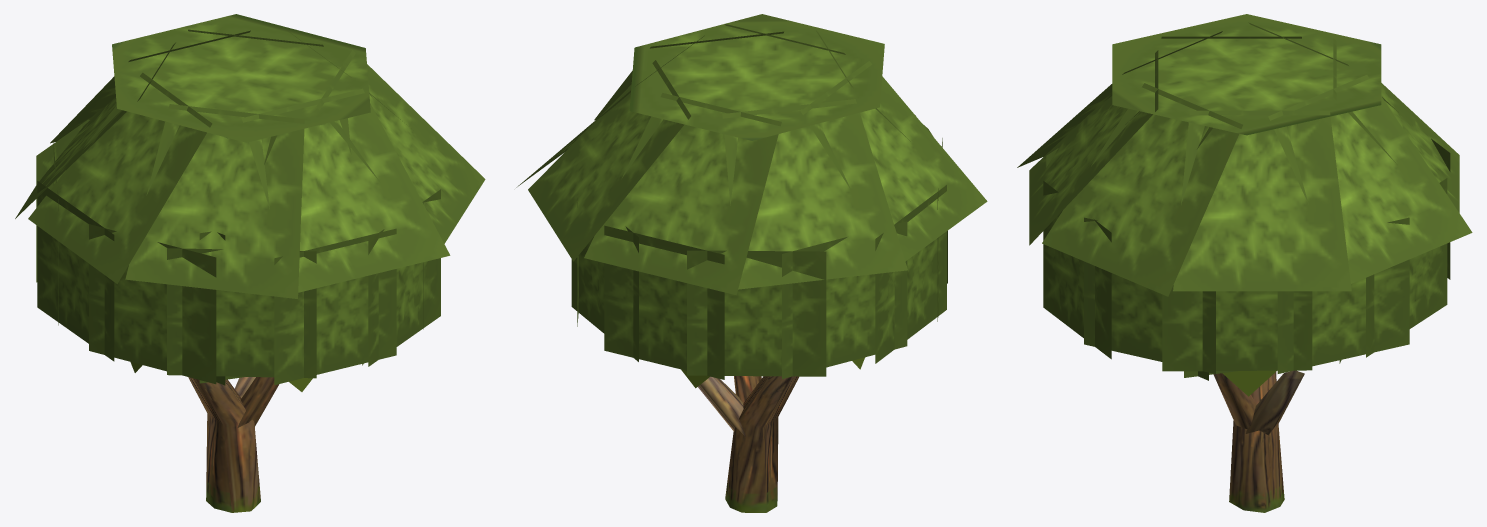
The model's file is City_tree_10.FBX.
3 renders of one model, left to right at view 1: azimuth 30°, elevation 25°; view 2: azimuth 150°, elevation 25°; view 3: azimuth 270°, elevation 25°, orthographic.
Visible parts, largest first — view 1: City_tree_10; view 2: City_tree_10; view 3: City_tree_10.
Boxes of the visible parts, x1=… form: City_tree_10: x1=15, y1=14, x2=485, y2=512; City_tree_10: x1=516, y1=14, x2=987, y2=512; City_tree_10: x1=1017, y1=14, x2=1472, y2=512.
Bounding box in the file's own units: 419 × 436 × 419.
